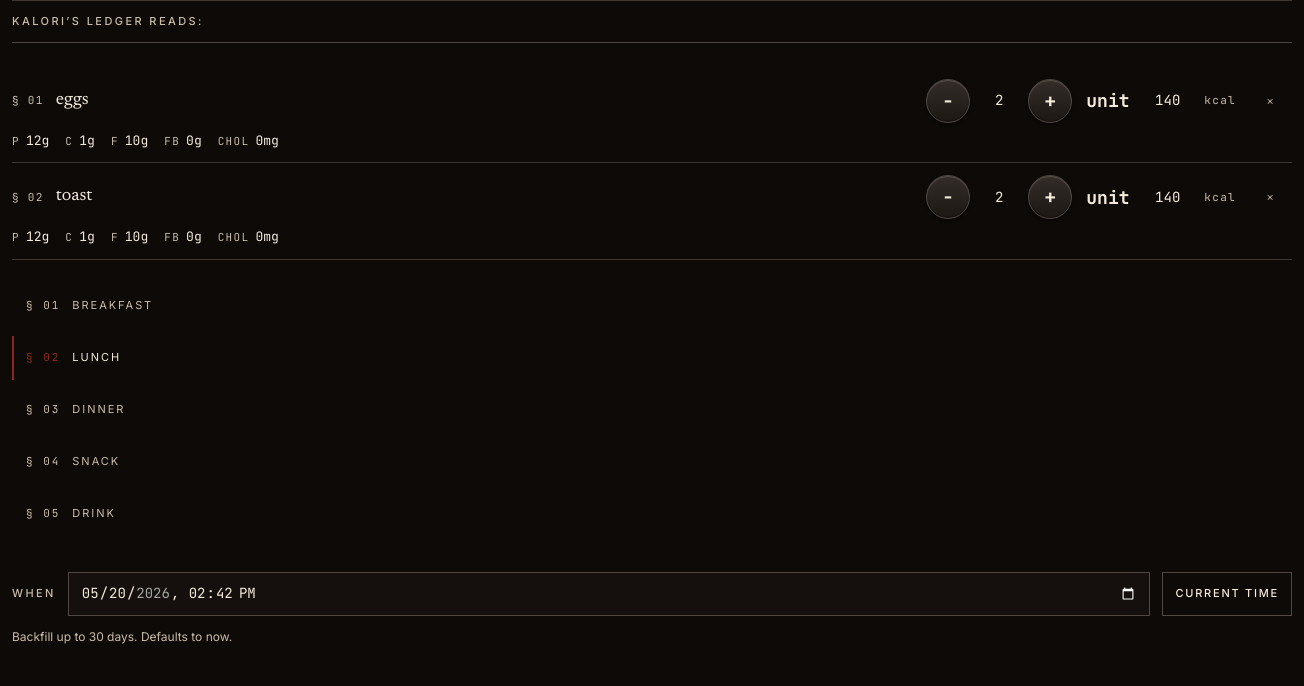
Test: <ConfirmationScreen /> › remove button removes a row from the list
The width and height of the screenshot is (1304, 686).
Check: the list item with test id "confirmation-item-0" is shown, box [12,66,1292,163]
Check: the list item with test id "confirmation-item-1" is shown, box [12,163,1292,260]
Click the button with test id "confirmation-item-1-remove".
click(1270, 197)  # box [1248,175,1292,219]
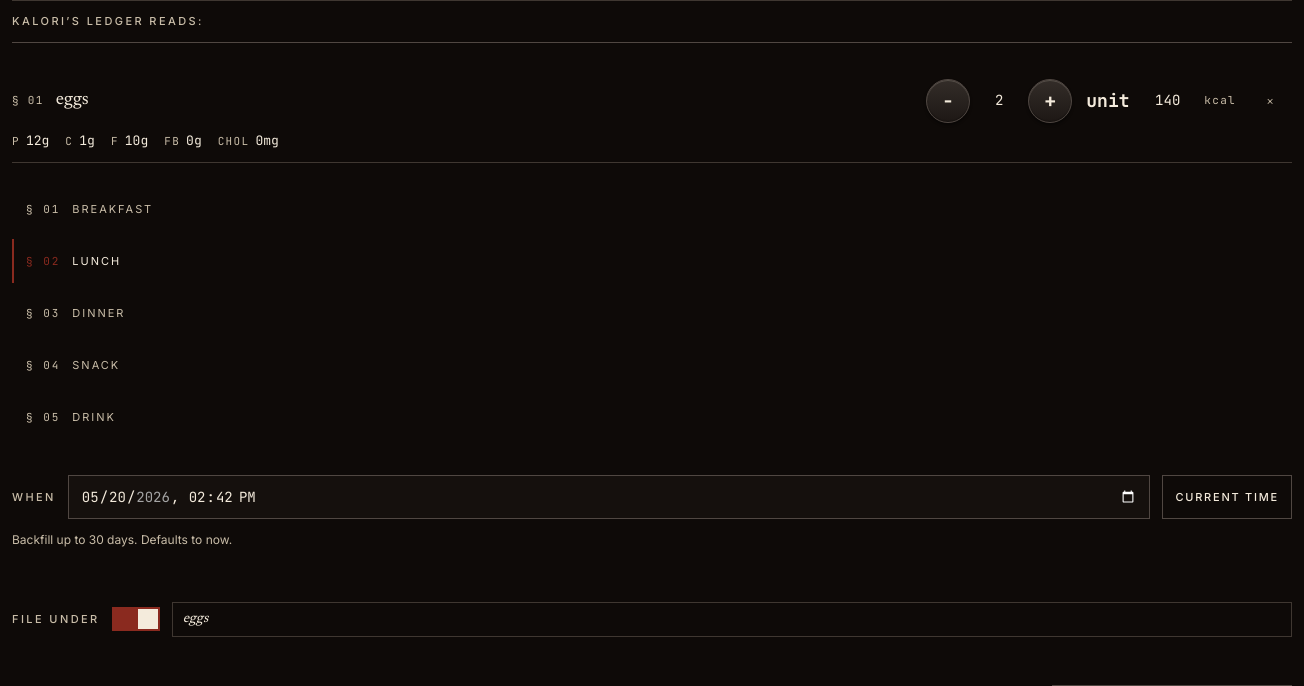
Check: the list item with test id "confirmation-item-1" is gone
